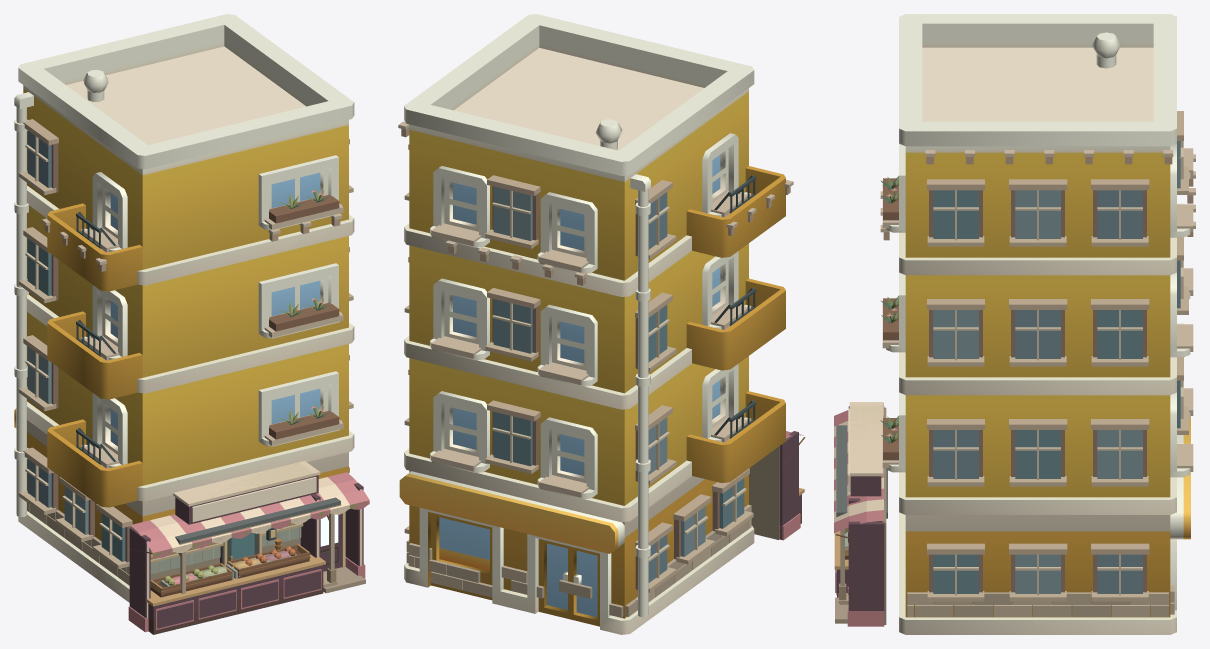
File: shop-g-yellow.glb
The picture shows the model from 3 angles, left to right: view 1: azimuth 30°, elevation 25°; view 2: azimuth 150°, elevation 25°; view 3: azimuth 270°, elevation 25°; orthographic projection. The views are drawn at different scales.
Visible parts, largest first — view 1: building-g, ICE_CREAM_Joinery, Masonry_and_stairwell_windows, Upper_floor_balconies_and_carved_cornice, HAY_MART_Joinery, Residential_Portico; view 2: building-g, Masonry_and_stairwell_windows, Upper_floor_balconies_and_carved_cornice, ICE_CREAM_Joinery; view 3: building-g, Masonry_and_stairwell_windows, ICE_CREAM_Joinery, Upper_floor_balconies_and_carved_cornice, Residential_Portico, HAY_MART_Joinery.
Part boxes in pixels (left/top/right/bottom): building-g: left=14, top=14, right=354, bottom=602; ICE_CREAM_Joinery: left=128, top=461, right=369, bottom=634; Masonry_and_stairwell_windows: left=18, top=119, right=353, bottom=585; Upper_floor_balconies_and_carved_cornice: left=42, top=188, right=343, bottom=468; HAY_MART_Joinery: left=150, top=462, right=369, bottom=597; Residential_Portico: left=175, top=497, right=341, bottom=593; building-g: left=399, top=14, right=785, bottom=634; Masonry_and_stairwell_windows: left=404, top=144, right=753, bottom=617; Upper_floor_balconies_and_carved_cornice: left=398, top=121, right=793, bottom=497; ICE_CREAM_Joinery: left=749, top=431, right=805, bottom=540; building-g: left=886, top=14, right=1190, bottom=634; Masonry_and_stairwell_windows: left=907, top=111, right=1188, bottom=616; ICE_CREAM_Joinery: left=834, top=402, right=886, bottom=626; Upper_floor_balconies_and_carved_cornice: left=880, top=148, right=1195, bottom=471; Residential_Portico: left=836, top=425, right=887, bottom=604; HAY_MART_Joinery: left=845, top=405, right=883, bottom=559.
Size of the model in its own units: 1.02 by 1.69 by 1.09.
66 materials, 1 textured.
